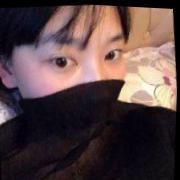WRONG: (20, 20, 135, 146)
